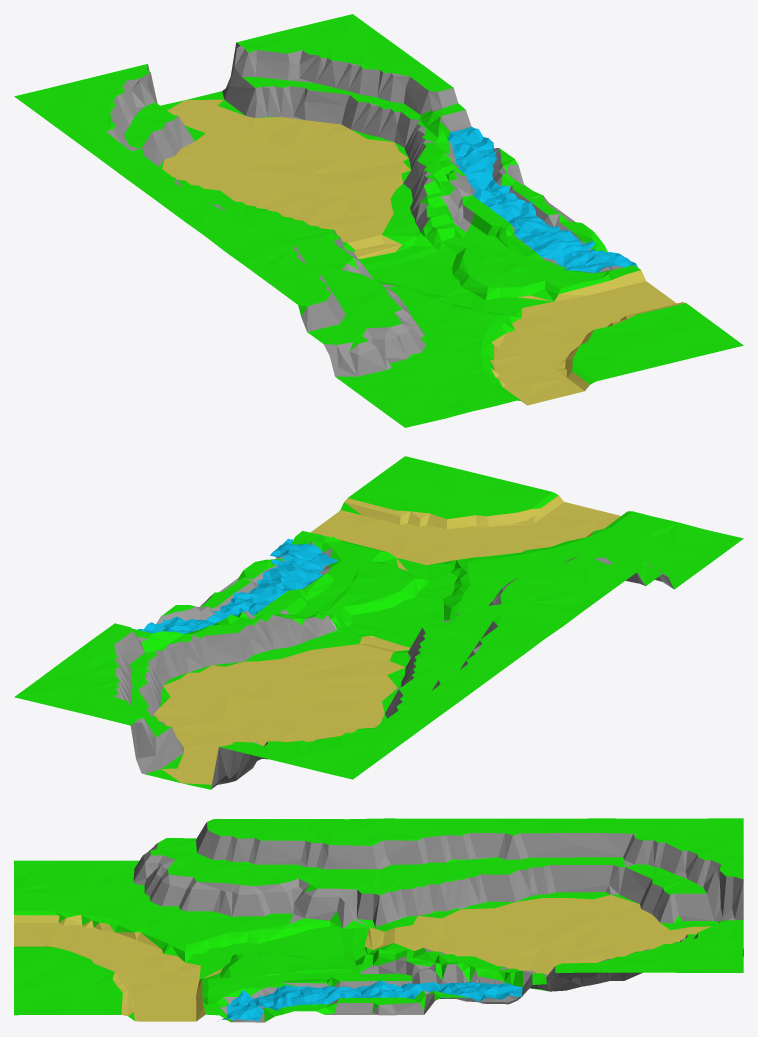
File: Terrain.fbx
The picture shows the model from 3 angles, top to bottom: view 1: azimuth 30°, elevation 25°; view 2: azimuth 150°, elevation 25°; view 3: azimuth 270°, elevation 25°; orthographic projection. The views are drawn at different scales.
Visible parts, largest first — view 1: Plane.001, Rio; view 2: Plane.001, Rio; view 3: Plane.001, Rio.
Part boxes in pixels (x1=…): Plane.001: x1=14, y1=14, x2=743, y2=427; Rio: x1=448, y1=127, x2=637, y2=272; Plane.001: x1=14, y1=456, x2=743, y2=789; Rio: x1=138, y1=538, x2=337, y2=633; Plane.001: x1=14, y1=818, x2=743, y2=1022; Rio: x1=218, y1=980, x2=522, y2=1021.
Bounding box in the file's own units: 3042 × 477 × 6000.
